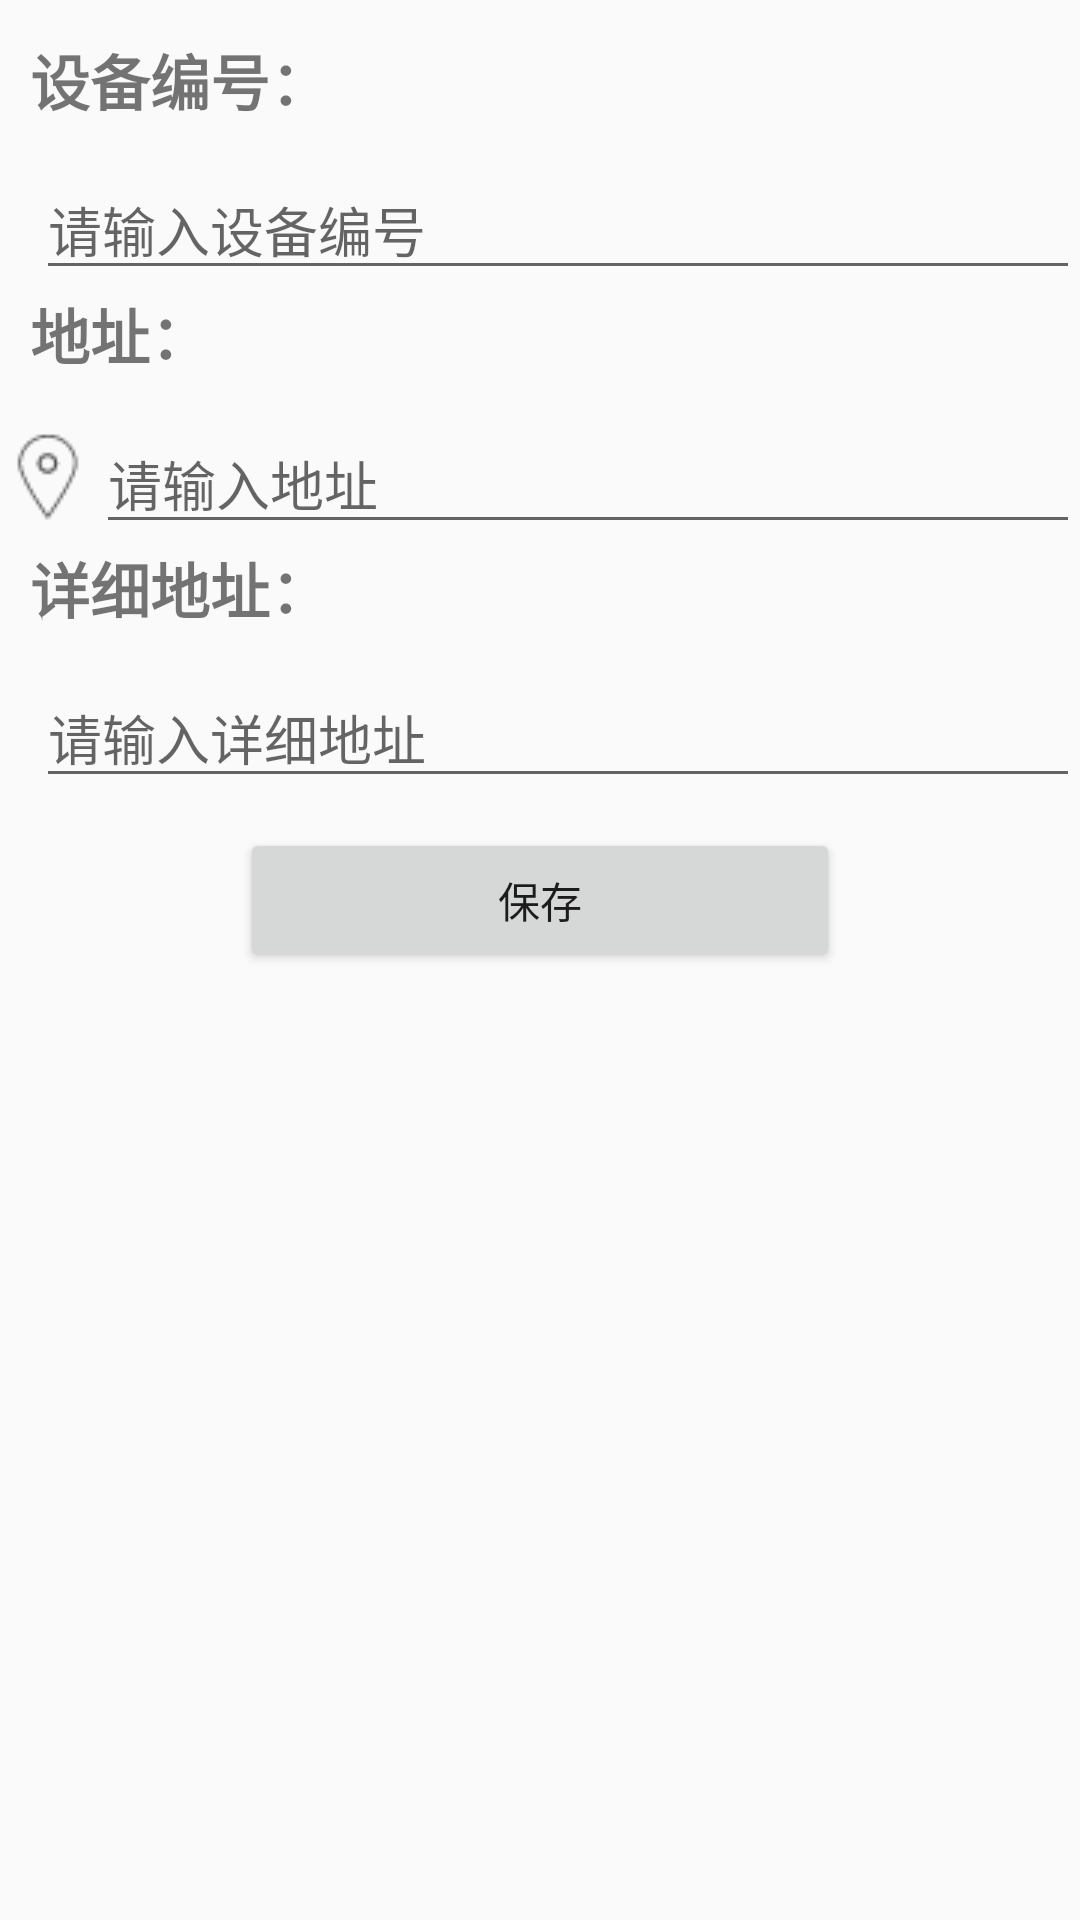

Point at icon controls on the screen. Image size 1080×1920, points as (x,y).
location: (48,477)
